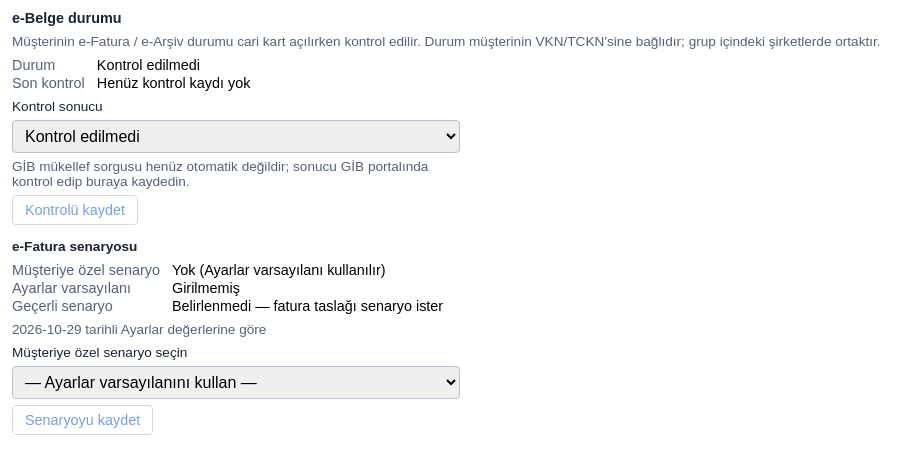
Test: SAT-D102 e-belge panel on the Cari card › offers only the Settings-listed codes and sets the override; clearing sends an explicit null
Select "CODE_B" in the dropdown labelled "Müşteriye özel senaryo seçin" at coordinates (236, 382), box [12, 366, 460, 399]
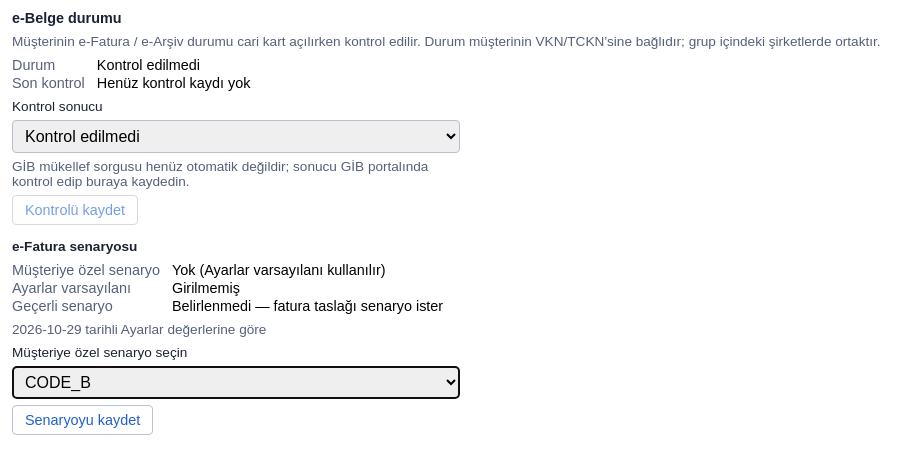
Click the button "Senaryoyu kaydet" at coordinates (83, 420), box [12, 405, 153, 435]
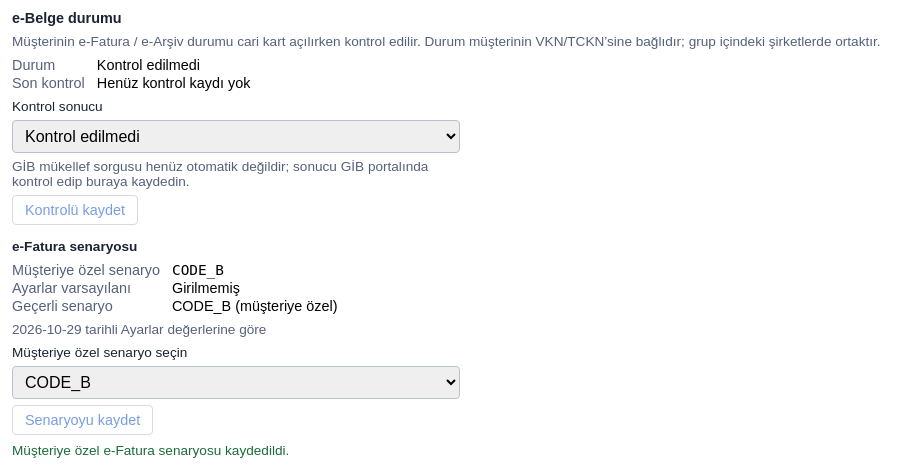
Result: the text "Müşteriye özel e-Fatura senaryosu kaydedildi." is shown at [12, 443, 289, 458]
Select "— Ayarlar varsayılanını kullan —" in the dropdown labelled "Müşteriye özel senaryo seçin" at coordinates (236, 382), box [12, 366, 460, 399]
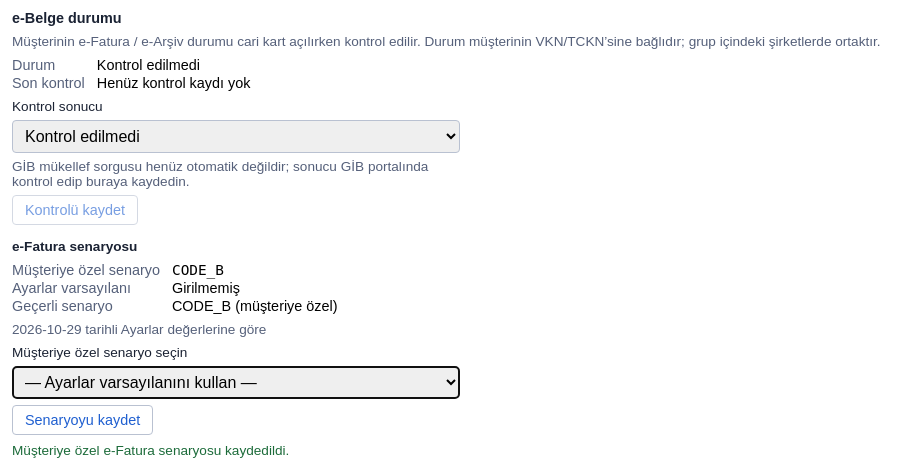
Click the button "Senaryoyu kaydet" at coordinates (83, 420), box [12, 405, 153, 435]
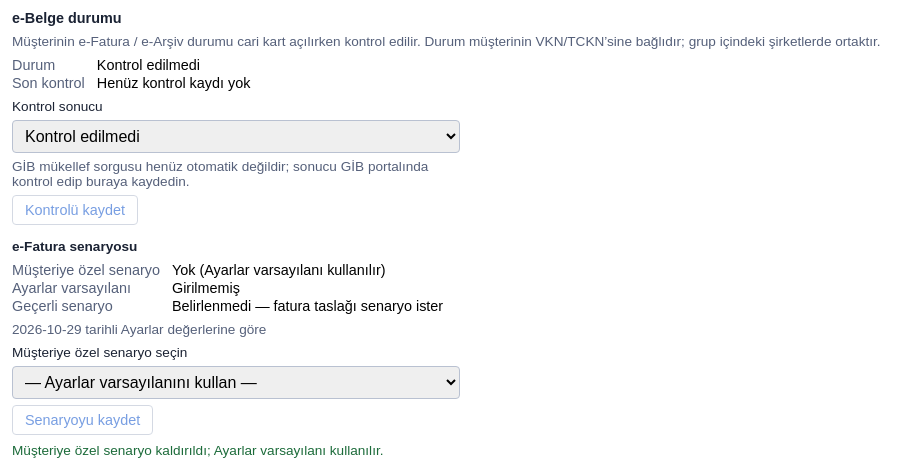
Result: the text "Müşteriye özel senaryo kaldırıldı; Ayarlar varsayılanı kullanılır." is shown at [12, 443, 384, 458]
